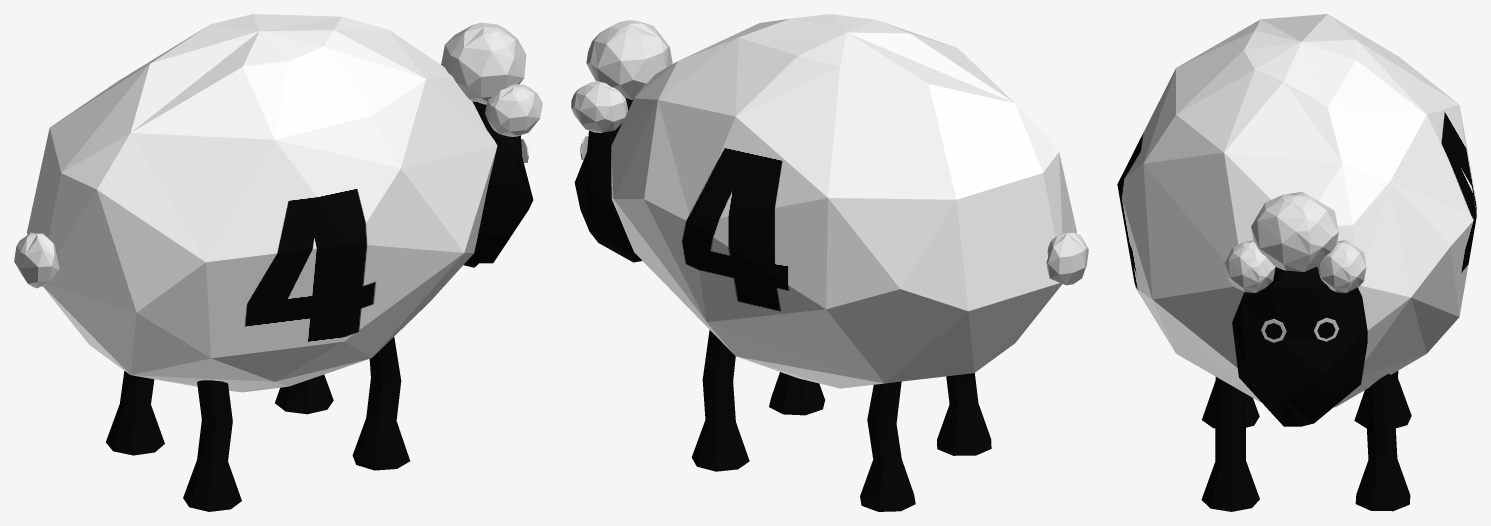
Rendered from sheep4.fbx.
3 renders of one model, left to right at view 1: azimuth 30°, elevation 25°; view 2: azimuth 150°, elevation 25°; view 3: azimuth 270°, elevation 25°, orthographic.
Visible parts, largest first — view 1: pSphere1, pSphere7, pSphere4, pCylinder1, pCylinder5, pCylinder7, pSphere8, pSphere3, pCylinder6; view 2: pSphere1, pCylinder6, pSphere7, pCylinder7, pSphere4, pCylinder1, pSphere9, pSphere3, pCylinder5; view 3: pSphere1, pSphere4, pSphere7, pCylinder5, pCylinder6, pSphere8, pSphere9, pCylinder7, pCylinder1.
Boxes of the visible parts, x1,y1,x2,y2 form: pSphere1: (27, 14, 497, 392); pSphere7: (441, 22, 526, 104); pSphere4: (463, 101, 533, 267); pCylinder1: (183, 380, 241, 511); pCylinder5: (352, 337, 409, 470); pCylinder7: (106, 371, 164, 455); pSphere8: (485, 84, 542, 136); pSphere3: (14, 232, 59, 288); pCylinder6: (275, 374, 333, 414); pSphere1: (611, 14, 1076, 388); pCylinder6: (691, 330, 749, 471); pSphere7: (586, 20, 672, 100); pCylinder7: (860, 381, 915, 511); pSphere4: (574, 98, 641, 262); pCylinder1: (937, 373, 991, 455); pSphere9: (571, 81, 627, 132); pSphere3: (1046, 232, 1088, 285); pCylinder5: (769, 372, 824, 415); pSphere1: (1117, 14, 1476, 407); pSphere4: (1232, 266, 1367, 426); pSphere7: (1251, 192, 1338, 271); pCylinder5: (1201, 378, 1259, 511); pCylinder6: (1355, 373, 1410, 511); pSphere8: (1225, 240, 1275, 292); pSphere9: (1317, 240, 1366, 292); pCylinder7: (1354, 371, 1411, 428); pCylinder1: (1202, 377, 1259, 428).
Bounding box in the file's own units: 3.08 × 2.46 × 1.93.
3 materials, 1 textured.
